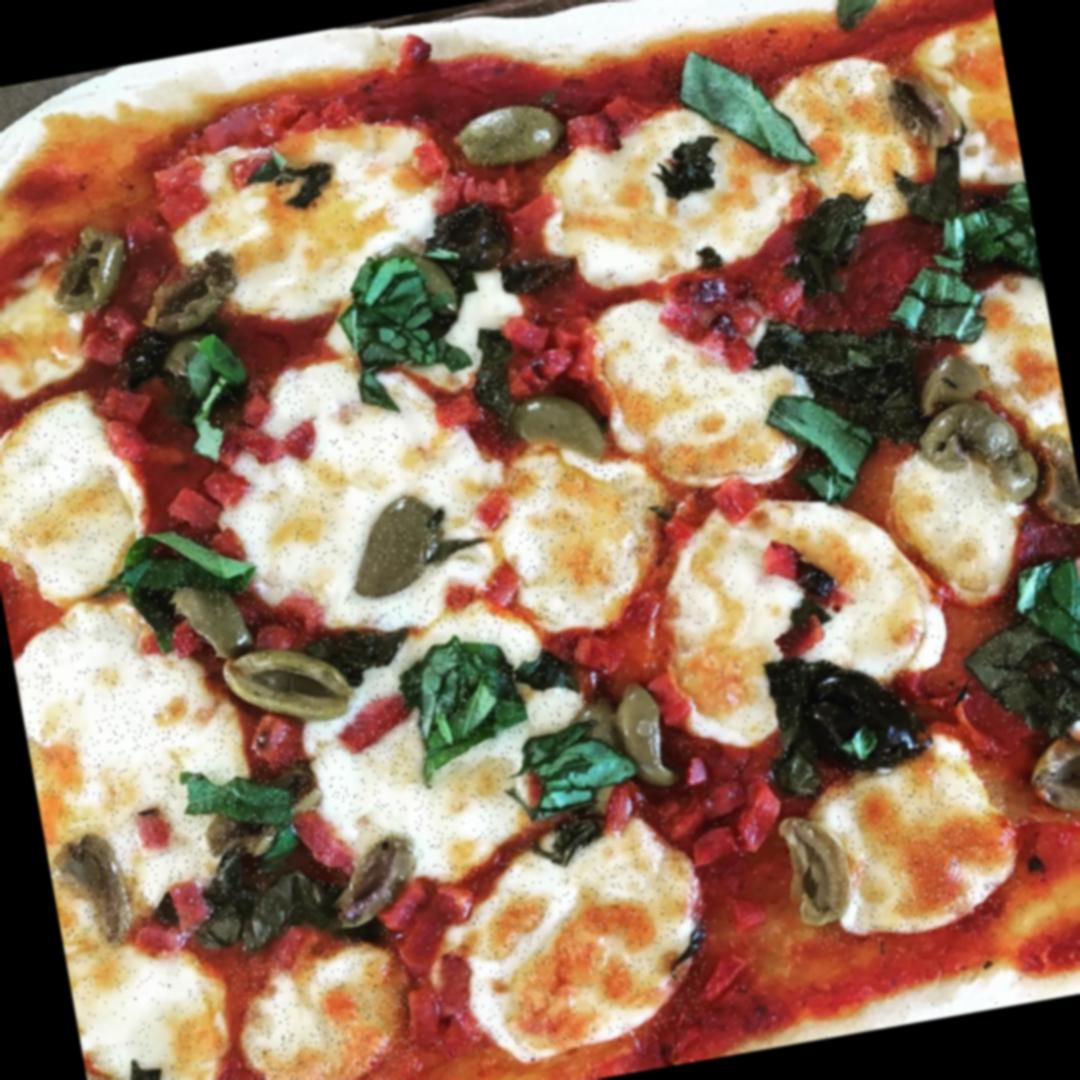Basil: (768, 308, 925, 466), (662, 32, 820, 185), (331, 250, 471, 396), (972, 569, 1080, 736), (184, 753, 330, 864), (107, 522, 249, 635), (519, 721, 639, 821), (404, 648, 522, 747), (884, 255, 989, 355), (929, 191, 1039, 279), (175, 338, 246, 394)
Cheese: (276, 583, 625, 894), (204, 342, 542, 646), (8, 581, 276, 954), (638, 466, 959, 749), (438, 805, 716, 1067), (170, 121, 462, 338), (536, 89, 812, 297), (588, 275, 828, 506), (791, 736, 1030, 952), (491, 436, 680, 642), (0, 383, 156, 603), (883, 428, 1045, 612), (229, 930, 424, 1080), (780, 53, 936, 230), (68, 933, 241, 1080), (947, 270, 1070, 452), (916, 18, 1026, 198)
Olives: (912, 391, 1038, 514), (217, 640, 351, 734), (340, 490, 453, 591), (53, 826, 142, 948), (774, 807, 856, 934), (452, 100, 565, 172), (506, 388, 606, 466), (334, 838, 421, 927), (136, 255, 237, 329), (429, 194, 518, 272), (40, 226, 116, 314), (1020, 730, 1080, 826), (1037, 445, 1080, 541), (106, 326, 174, 385), (923, 348, 993, 403), (512, 260, 570, 296)
Pizza: (0, 0, 1080, 1080)
